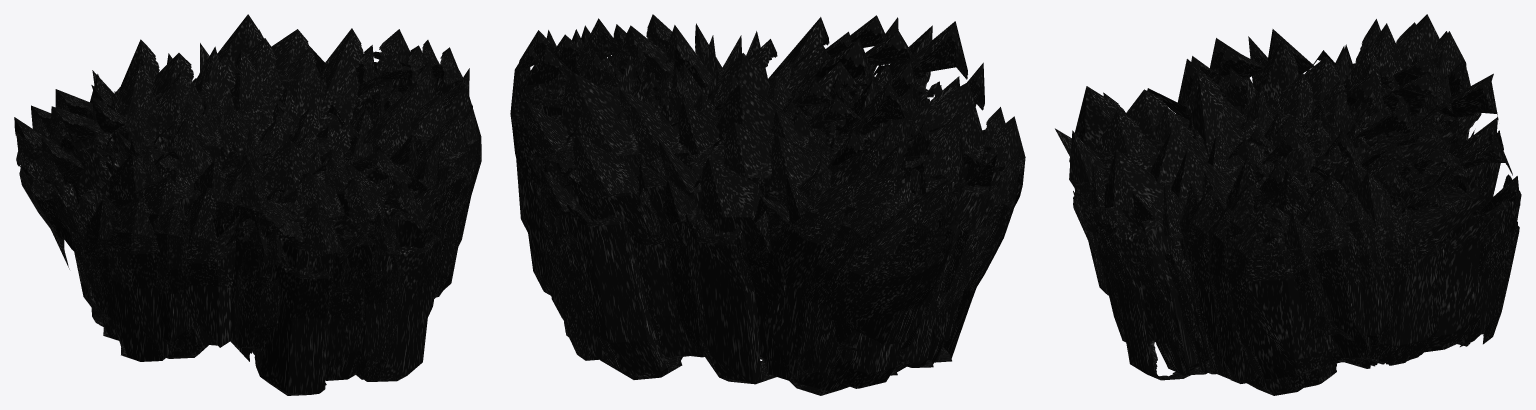
The model's file is diken (1).fbx.
The picture shows the model from 3 angles, left to right: view 1: azimuth 30°, elevation 25°; view 2: azimuth 150°, elevation 25°; view 3: azimuth 270°, elevation 25°; orthographic projection. The views are drawn at different scales.
Visible parts, largest first — view 1: diken; view 2: diken; view 3: diken.
Part boxes in pixels (left/top/right/bottom): diken: left=14, top=14, right=481, bottom=395; diken: left=510, top=14, right=1025, bottom=395; diken: left=1055, top=14, right=1521, bottom=395.
Bounding box in the file's own units: 560 × 350 × 543.
1 material, 1 textured.
